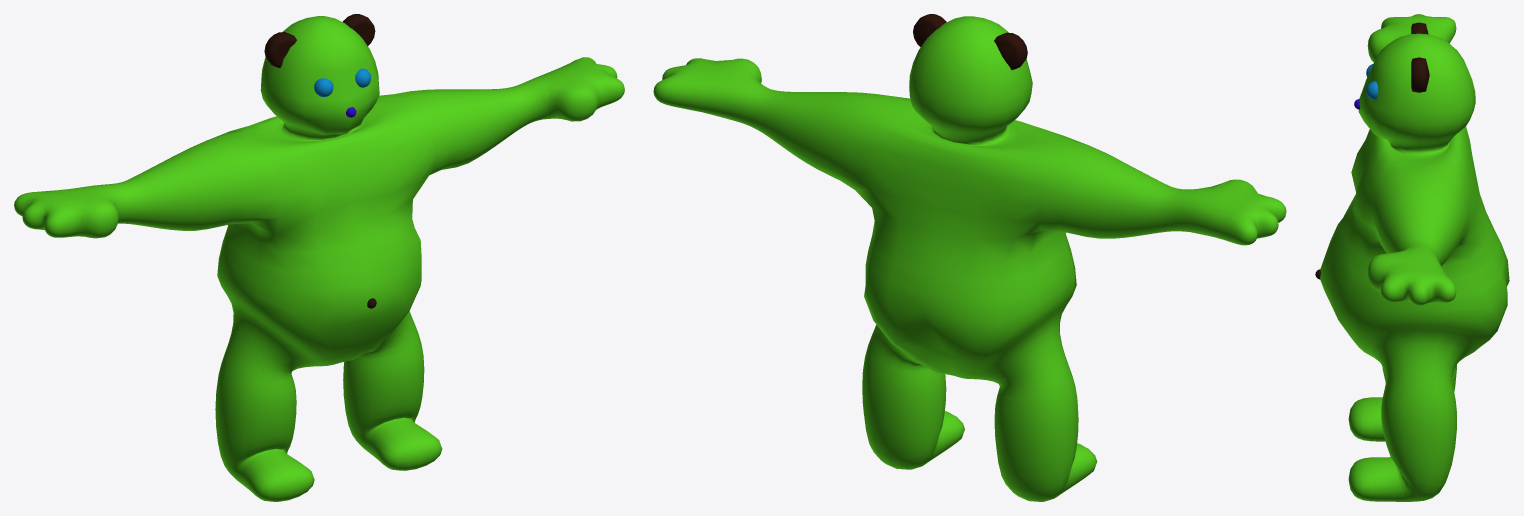
Rendered from Terence substance mesh export.fbx.
3 renders of one model, left to right at view 1: azimuth 30°, elevation 25°; view 2: azimuth 150°, elevation 25°; view 3: azimuth 270°, elevation 25°, orthographic. The views are drawn at different scales.
Parts seen in each view (by area): view 1: Terence, Ears; view 2: Terence, Ears; view 3: Terence, Ears, Eyes.
Part boxes in pixels (x1,y1,x2,y2): Terence: [14, 16, 624, 501]; Ears: [264, 14, 375, 68]; Terence: [653, 16, 1286, 501]; Ears: [913, 14, 1027, 70]; Terence: [1320, 14, 1509, 501]; Ears: [1411, 22, 1429, 92]; Eyes: [1366, 63, 1378, 99].
Bounding box in the file's own units: 271 × 196 × 79.91.
